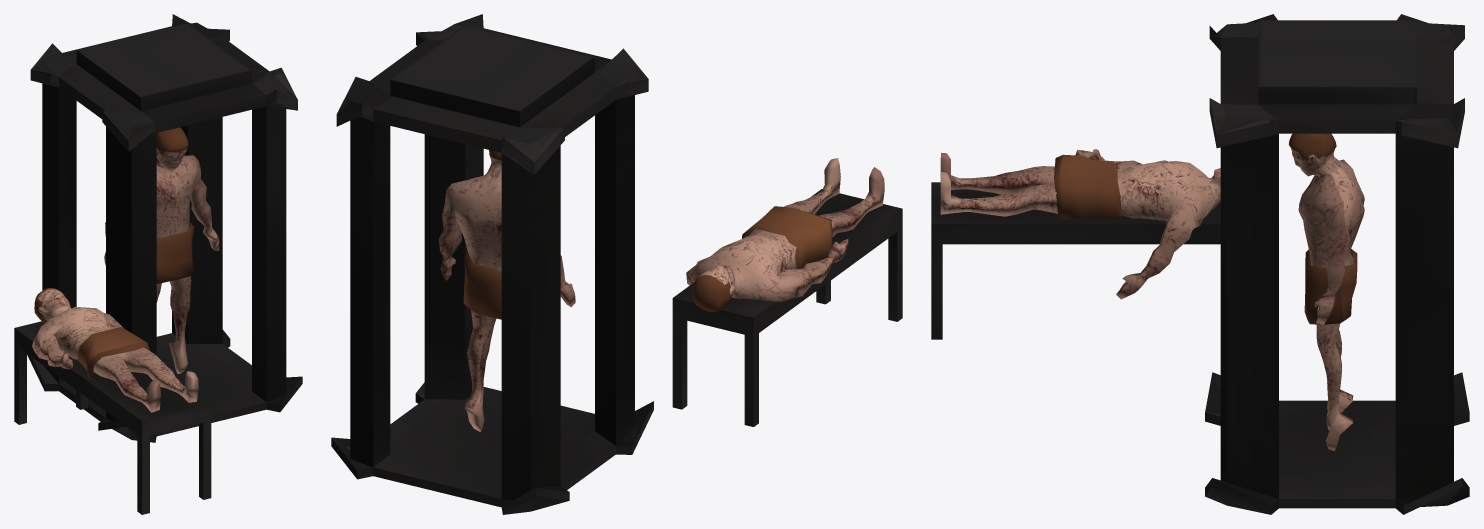
File: corpses_expository.fbx
3 renders of one model, left to right at view 1: azimuth 30°, elevation 25°; view 2: azimuth 150°, elevation 25°; view 3: azimuth 270°, elevation 25°, orthographic. The views are drawn at different scales.
Visible parts, largest first — view 1: Cube.315; view 2: Cube.315; view 3: Cube.315.
Part boxes in pixels (x1,y1,x2,y2): Cube.315: [14, 14, 302, 514]; Cube.315: [331, 14, 902, 514]; Cube.315: [931, 14, 1469, 514].
Bounding box in the file's own units: 14.24 × 15.21 × 18.31.
